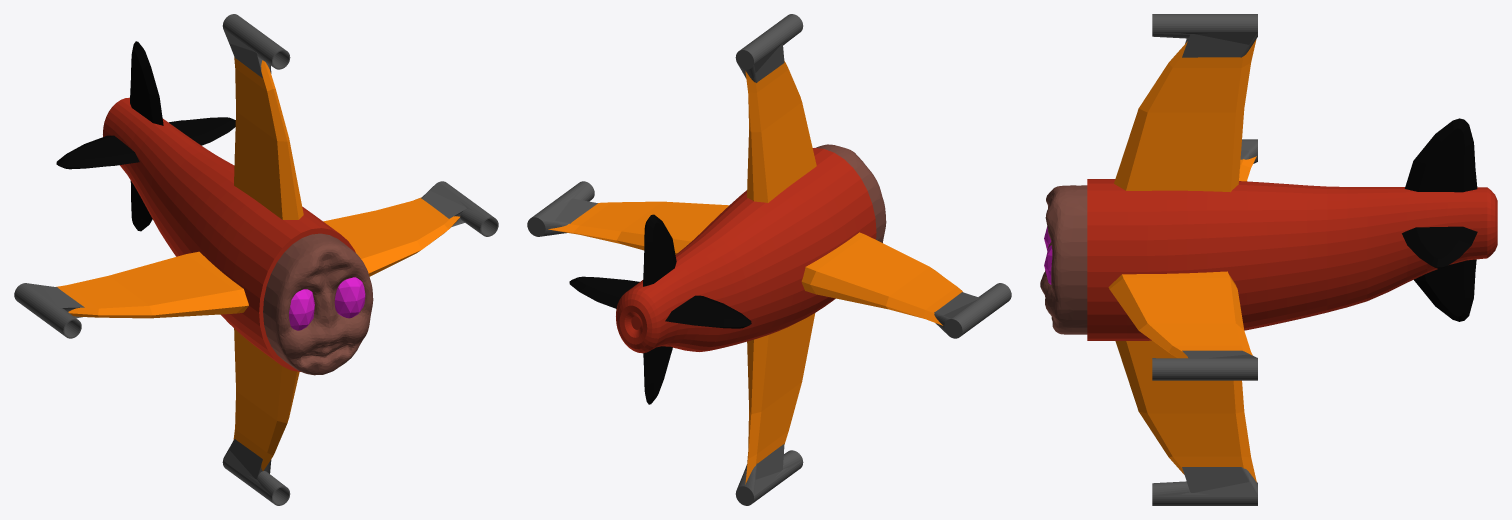
The picture shows the model from 3 angles, left to right: view 1: azimuth 30°, elevation 25°; view 2: azimuth 150°, elevation 25°; view 3: azimuth 270°, elevation 25°; orthographic projection. The views are drawn at different scales.
Visible parts, largest first — view 1: Cylinder, Cube, Cube.001, Cylinder.001, Cube.002, Cube.003, Cylinder.003, Cylinder.002, Cylinder.004, Cylinder.005, Icosphere.001, Icosphere; view 2: Cylinder, Cube.001, Cube, Cube.002, Cube.003, Cylinder.003, Cylinder.002, Cylinder.004, Cylinder.005, Cylinder.001; view 3: Cylinder, Cube.001, Cube, Cube.003, Cylinder.001, Cylinder.003, Cylinder.004, Cylinder.005, Cube.002.
Part boxes in pixels (x1=…): Cylinder: x1=103, y1=97, x2=355, y2=371; Cube: x1=56, y1=197, x2=459, y2=318; Cube.001: x1=233, y1=57, x2=303, y2=470; Cylinder.001: x1=263, y1=233, x2=373, y2=375; Cube.002: x1=56, y1=117, x2=235, y2=169; Cube.003: x1=130, y1=41, x2=163, y2=231; Cylinder.003: x1=222, y1=14, x2=290, y2=78; Cylinder.002: x1=14, y1=283, x2=84, y2=338; Cylinder.004: x1=222, y1=439, x2=290, y2=505; Cylinder.005: x1=421, y1=181, x2=498, y2=236; Icosphere.001: x1=334, y1=277, x2=365, y2=318; Icosphere: x1=289, y1=289, x2=314, y2=330; Cylinder: x1=616, y1=148, x2=876, y2=353; Cube.001: x1=745, y1=61, x2=816, y2=484; Cube: x1=548, y1=201, x2=962, y2=325; Cube.002: x1=569, y1=276, x2=751, y2=328; Cube.003: x1=643, y1=214, x2=676, y2=404; Cylinder.003: x1=735, y1=14, x2=803, y2=82; Cylinder.002: x1=934, y1=283, x2=1011, y2=338; Cylinder.004: x1=735, y1=443, x2=803, y2=505; Cylinder.005: x1=527, y1=181, x2=597, y2=236; Cylinder.001: x1=816, y1=144, x2=886, y2=242; Cylinder: x1=1087, y1=179, x2=1497, y2=340; Cube.001: x1=1114, y1=39, x2=1256, y2=482; Cube: x1=1108, y1=156, x2=1256, y2=358; Cube.003: x1=1404, y1=118, x2=1477, y2=321; Cylinder.001: x1=1040, y1=185, x2=1087, y2=334; Cylinder.003: x1=1152, y1=14, x2=1257, y2=57; Cylinder.004: x1=1152, y1=467, x2=1257, y2=505; Cylinder.005: x1=1152, y1=350, x2=1257, y2=380; Cube.002: x1=1402, y1=226, x2=1477, y2=268.
Size of the model in its own units: 6.42 by 6.42 by 5.43.
